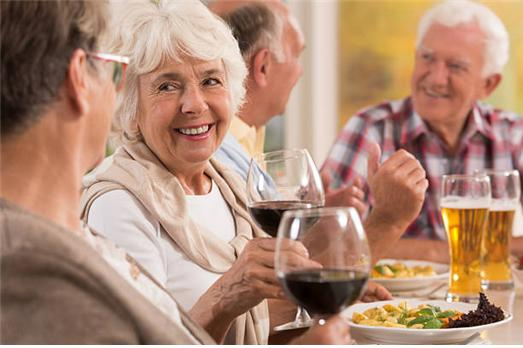alcohol: (246, 148, 324, 333), (274, 207, 369, 348), (440, 174, 491, 305), (474, 169, 521, 281)
